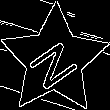N_NE: (23, 29, 85, 91)
